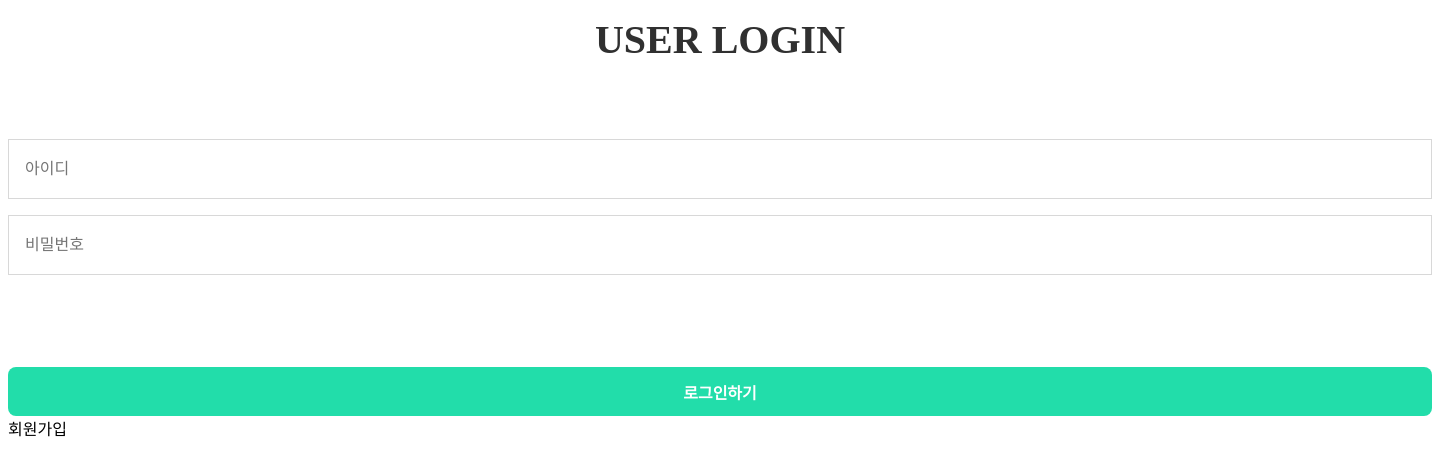
Scenario: LoginForm › when id field is blank › show error message
The image size is (1440, 454).
Expected: the heading "USER LOGIN" is shown, [595, 17, 845, 62]
In the password field with placeholder "비밀번호": coordinates (720, 245) [8, 215, 1432, 275], type "Password1234!"
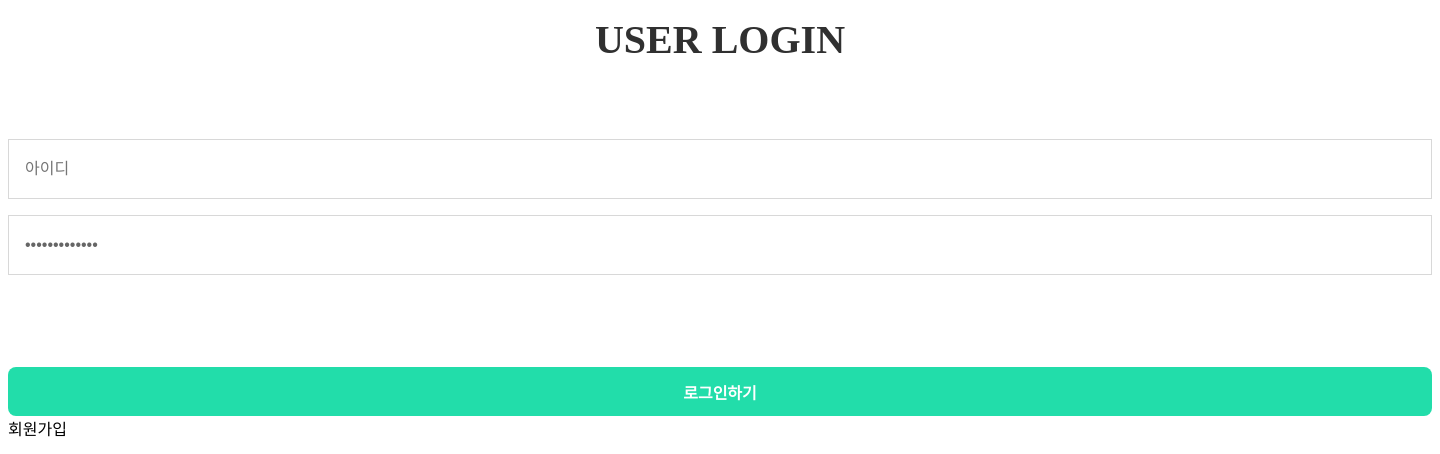
Click the button "로그인하기": coordinates (720, 392) [8, 367, 1432, 416]
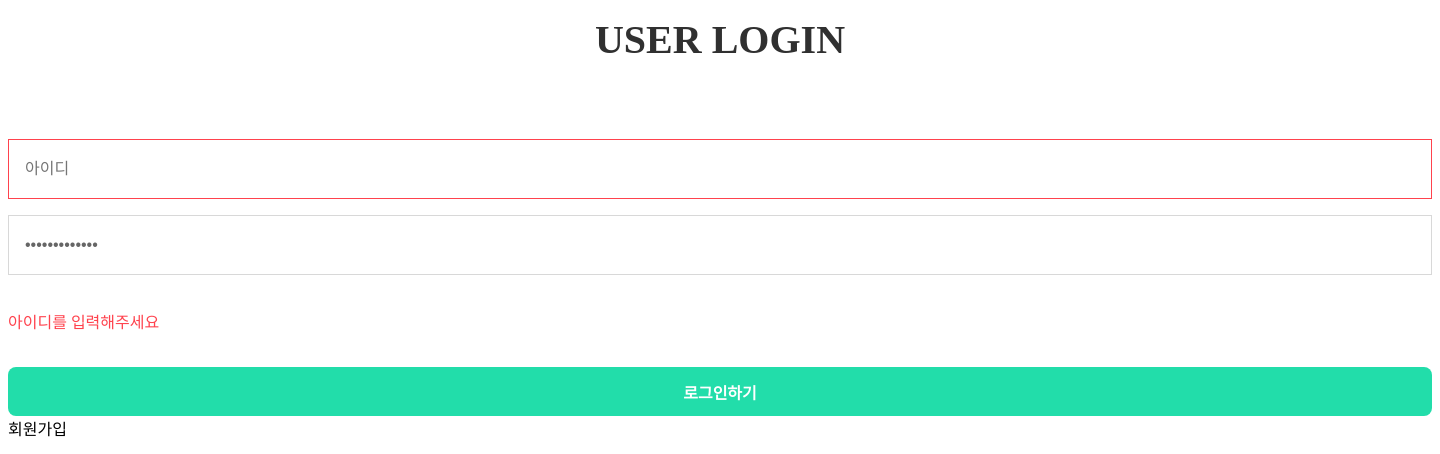
Result: the text "아이디를 입력해주세요" is shown at [8, 314, 159, 331]
